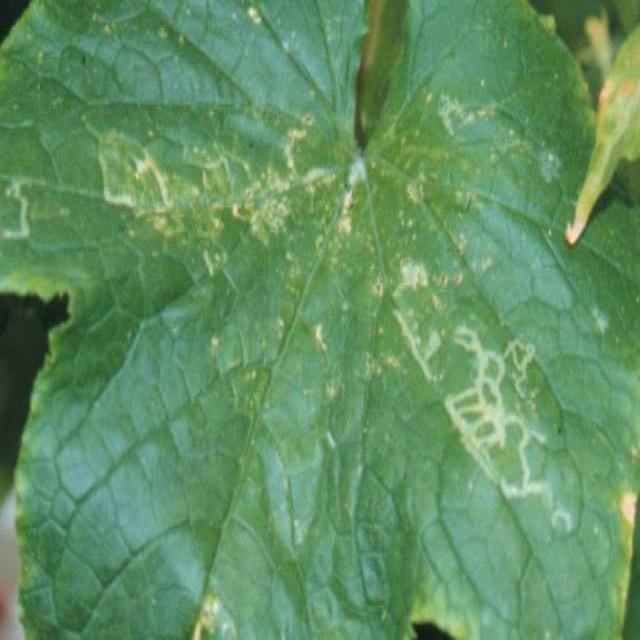Serpentine leafminer: (383, 237, 566, 526), (87, 123, 376, 263), (1, 168, 59, 256)
